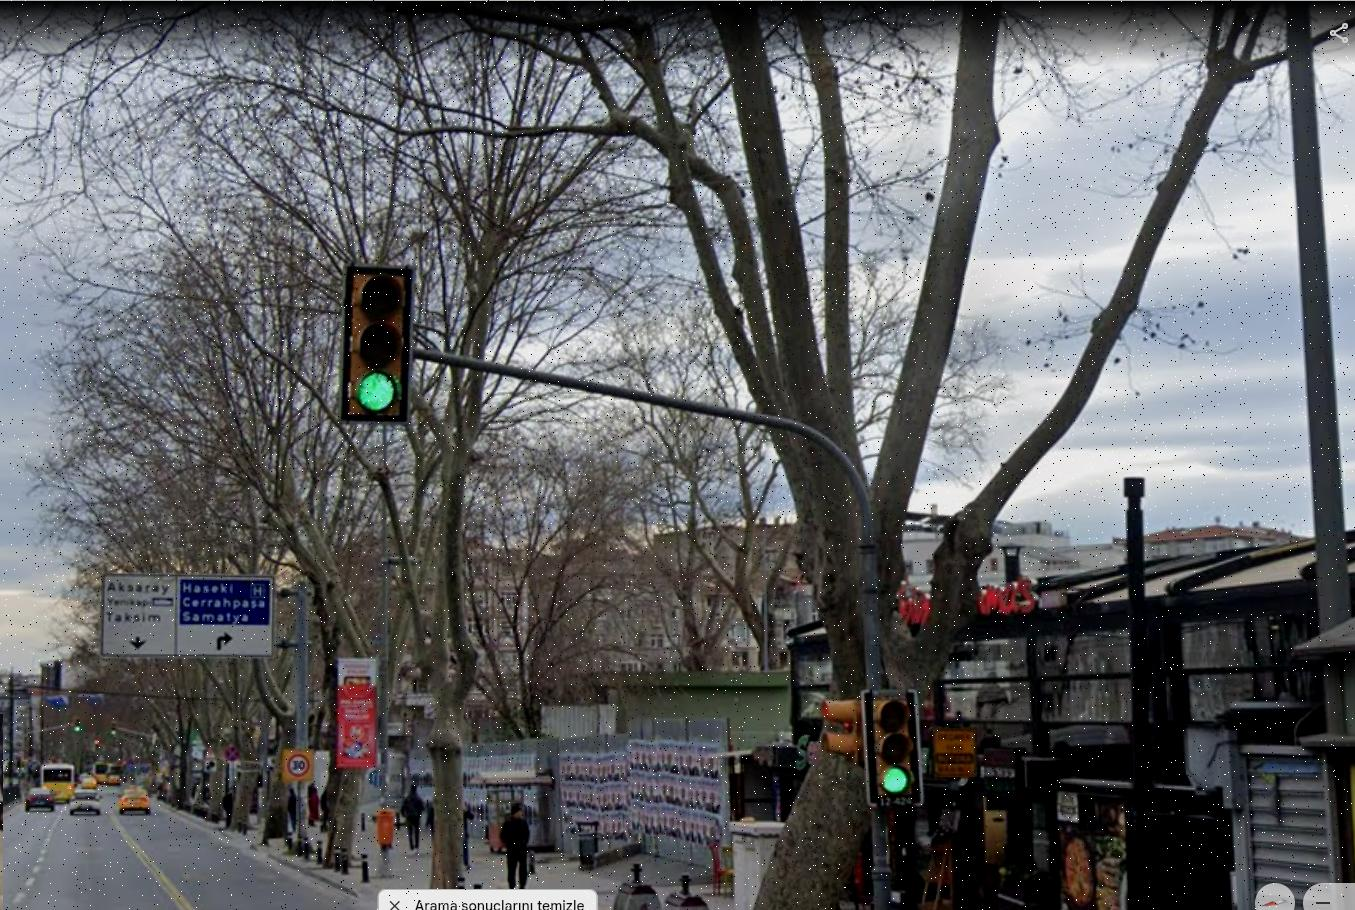greenlight: (338, 257, 414, 432), (857, 684, 928, 808)
